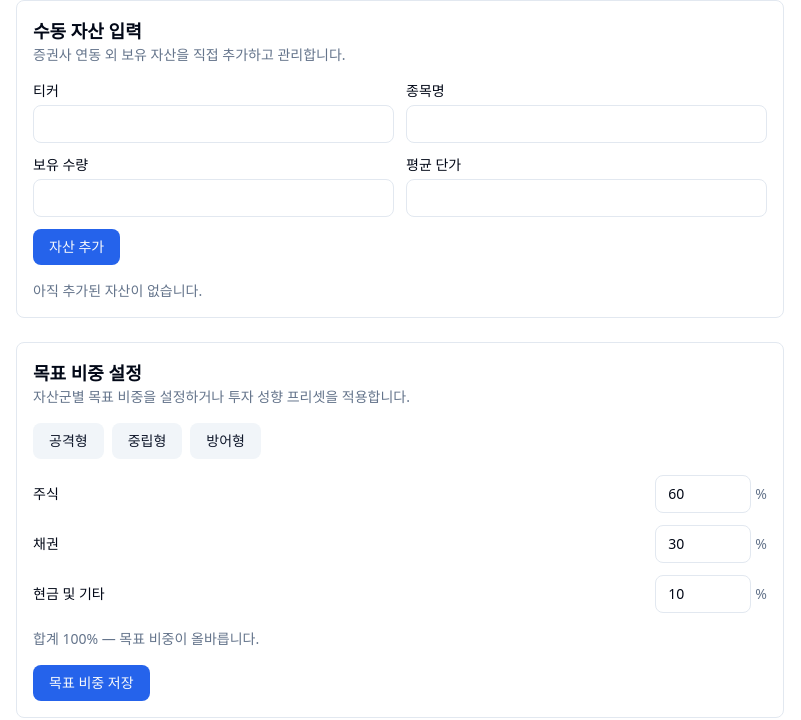
SettingsPortfolioPanel — 목표 비중 › 목표 비중 저장에 실패하면 에러 메시지를 표시한다
This screenshot has width=801, height=720.
Check: the field labelled "티커" is shown, box x1=33 y1=105 x2=394 y2=143
Check: the number field named "주식 목표 비중" is shown, box x1=655 y1=475 x2=751 y2=513
Click the button "공격형". click: (68, 441)
box: x1=33 y1=423 x2=104 y2=459
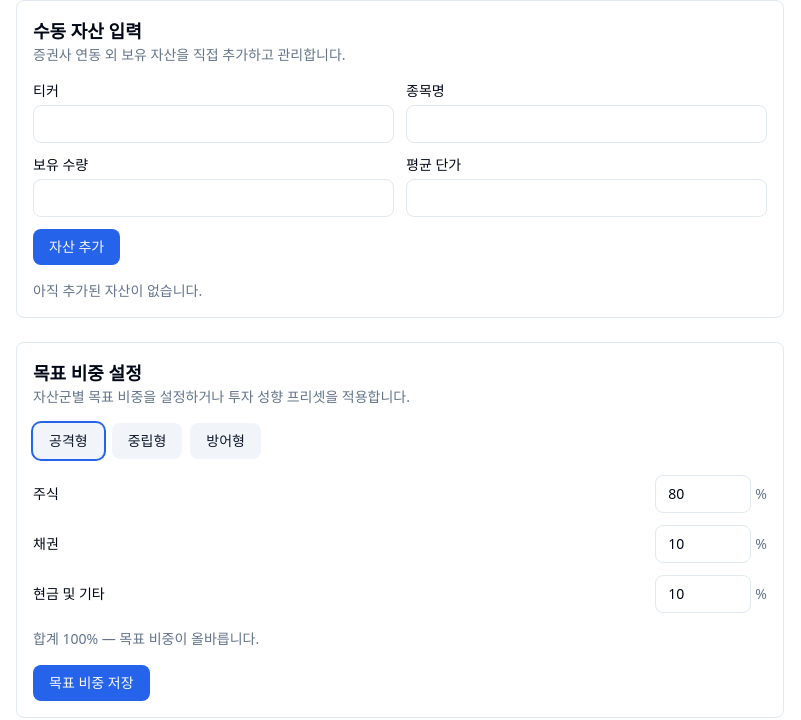
Click the button "목표 비중 저장". click: (91, 683)
box: x1=33 y1=665 x2=150 y2=701
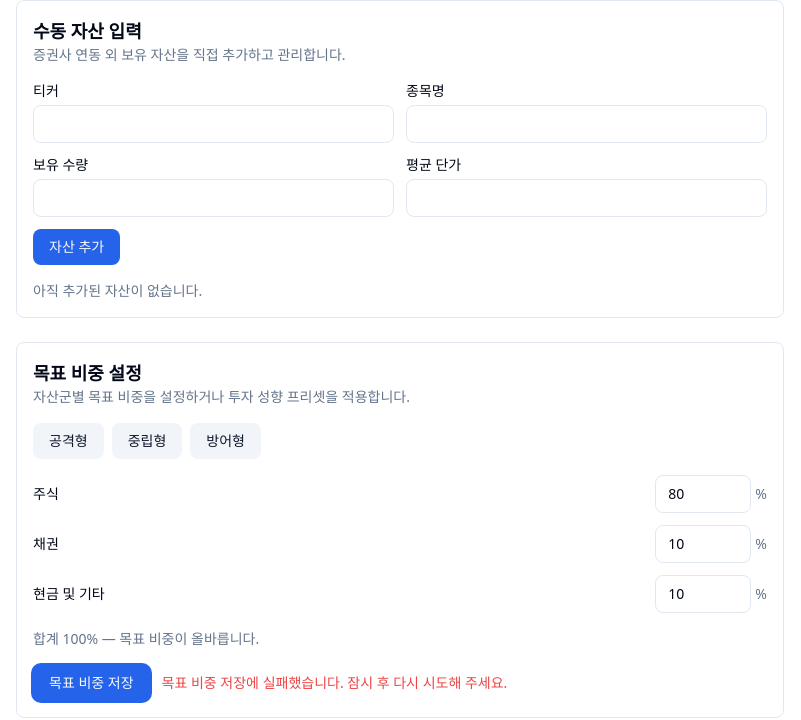
Check: the text "목표 비중 저장에 실패했습니다. 잠시 후 다시 시도해 주세요." is shown, box x1=162 y1=673 x2=507 y2=693
